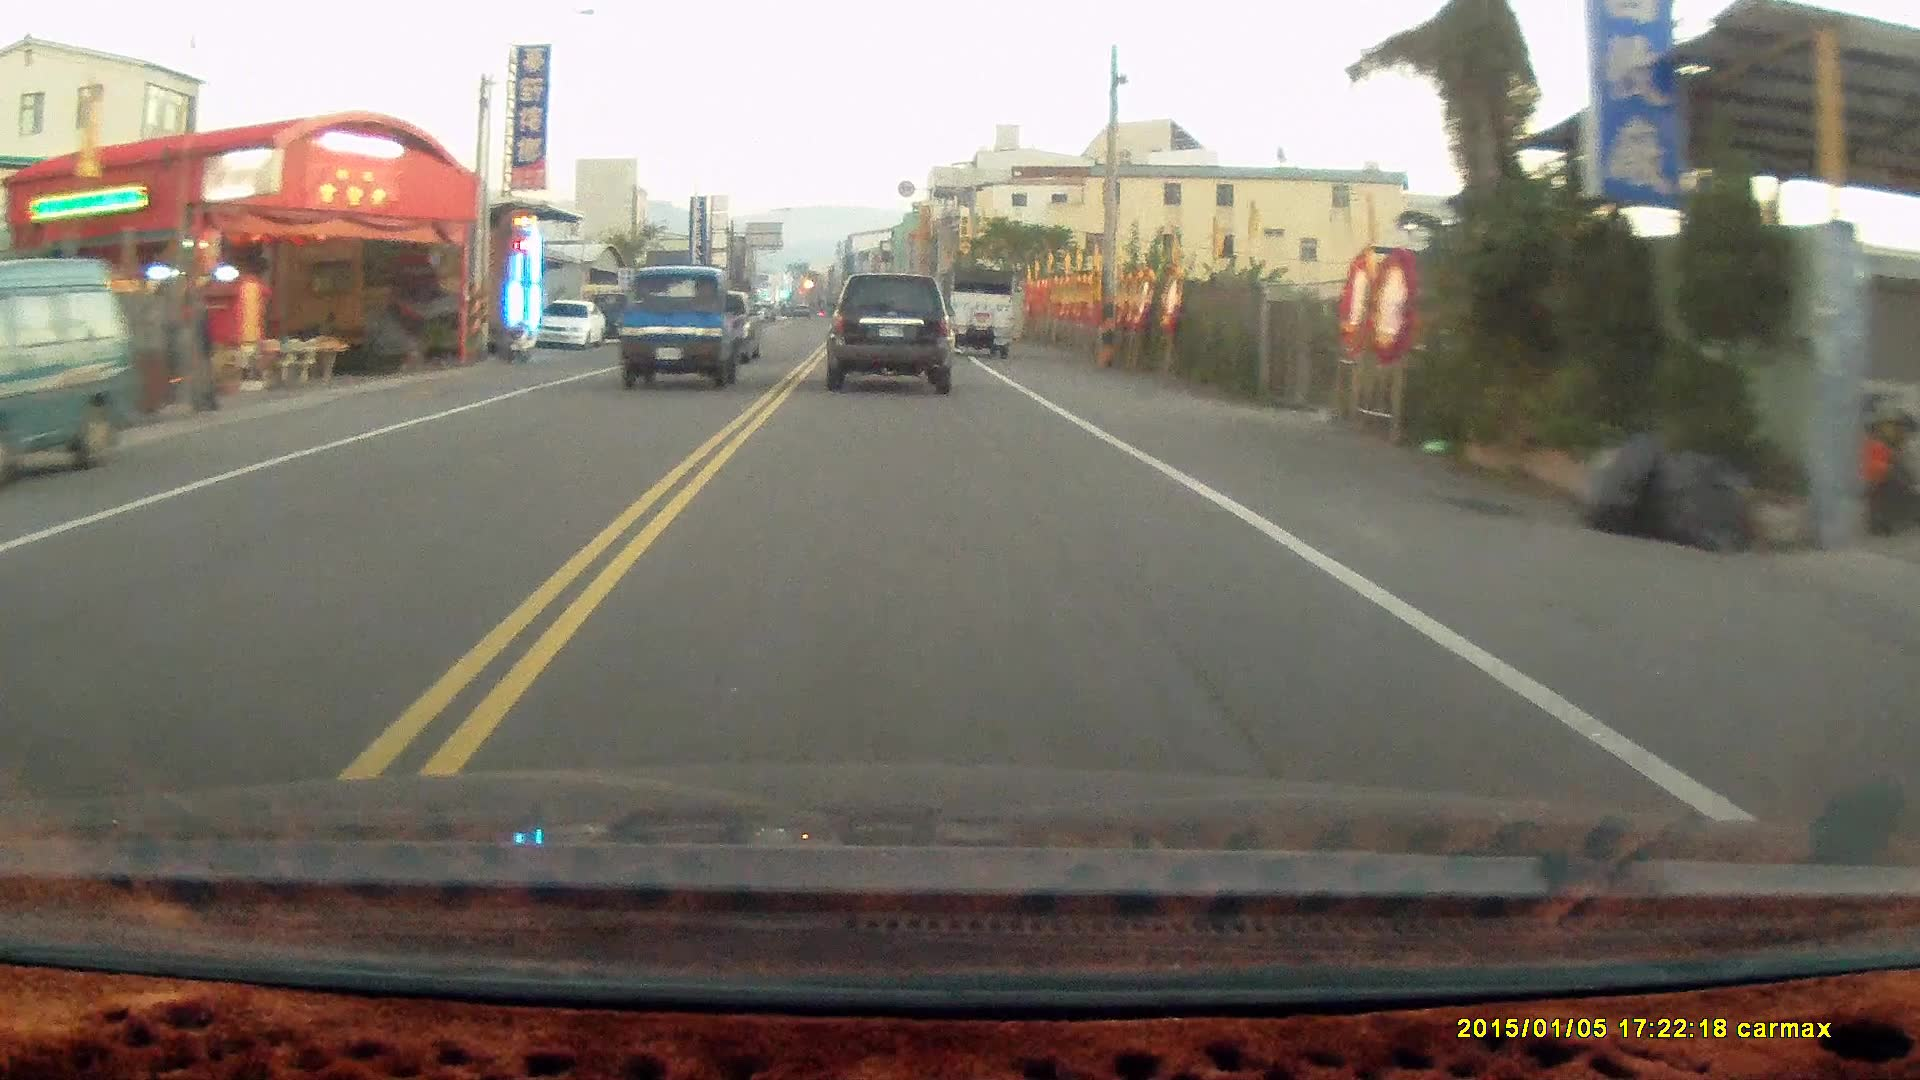vehicle: (1, 256, 140, 487), (615, 264, 764, 389), (829, 265, 964, 392), (938, 264, 1021, 359), (538, 299, 605, 349)
